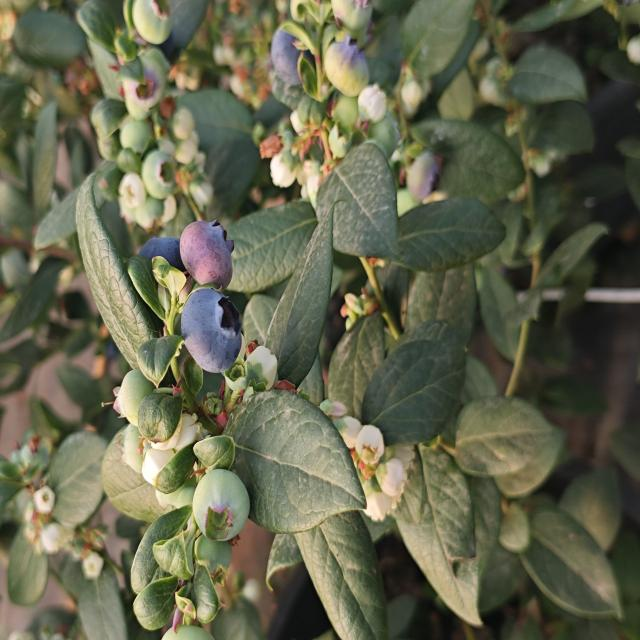ripe: (178, 286, 245, 377), (177, 217, 236, 291), (268, 28, 304, 80), (139, 237, 179, 260)
